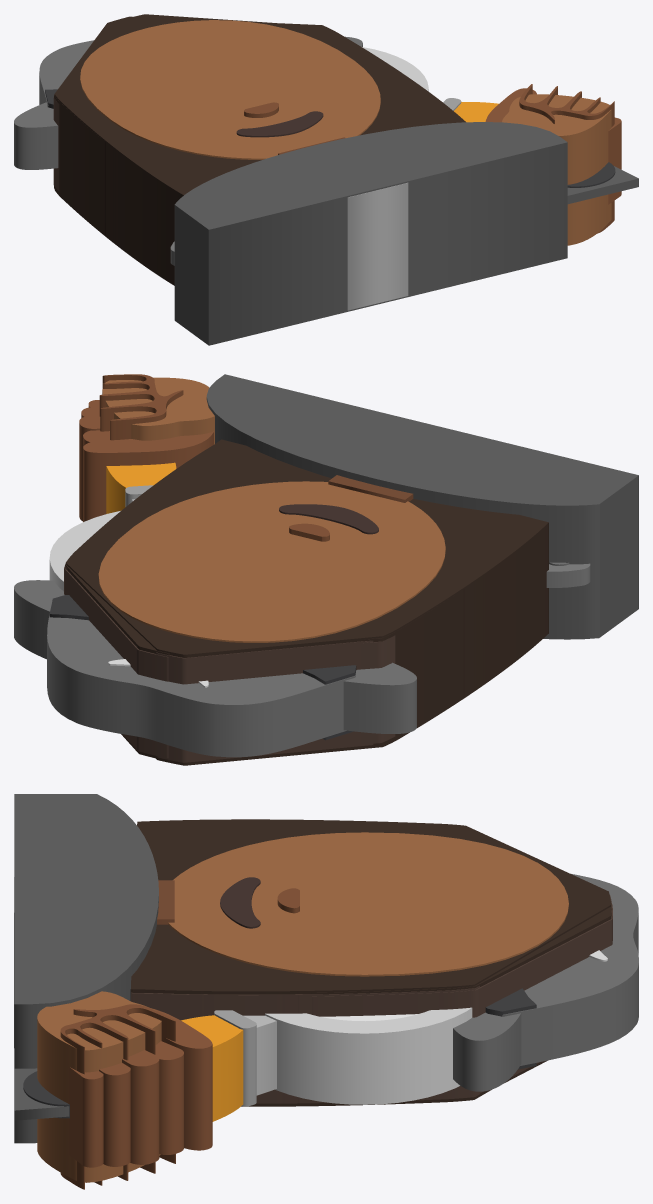
Rendered from emoji_u1f575_1f3fe_200d_2640.glb.
3 renders of one model, top to bottom at view 1: azimuth 30°, elevation 25°; view 2: azimuth 150°, elevation 25°; view 3: azimuth 270°, elevation 25°, orthographic. The views are drawn at different scales.
Parts seen in each view (by area): view 1: emoji_u1f575_1f3fe_200d_2640; view 2: emoji_u1f575_1f3fe_200d_2640; view 3: emoji_u1f575_1f3fe_200d_2640.
Boxes of the visible parts, x1,y1,x2,y2 form: emoji_u1f575_1f3fe_200d_2640: (14,14,638,345); emoji_u1f575_1f3fe_200d_2640: (14,374,638,765); emoji_u1f575_1f3fe_200d_2640: (14,794,638,1189).
Size of the model in its own units: 0.0328 by 0.0084 by 0.0334.
